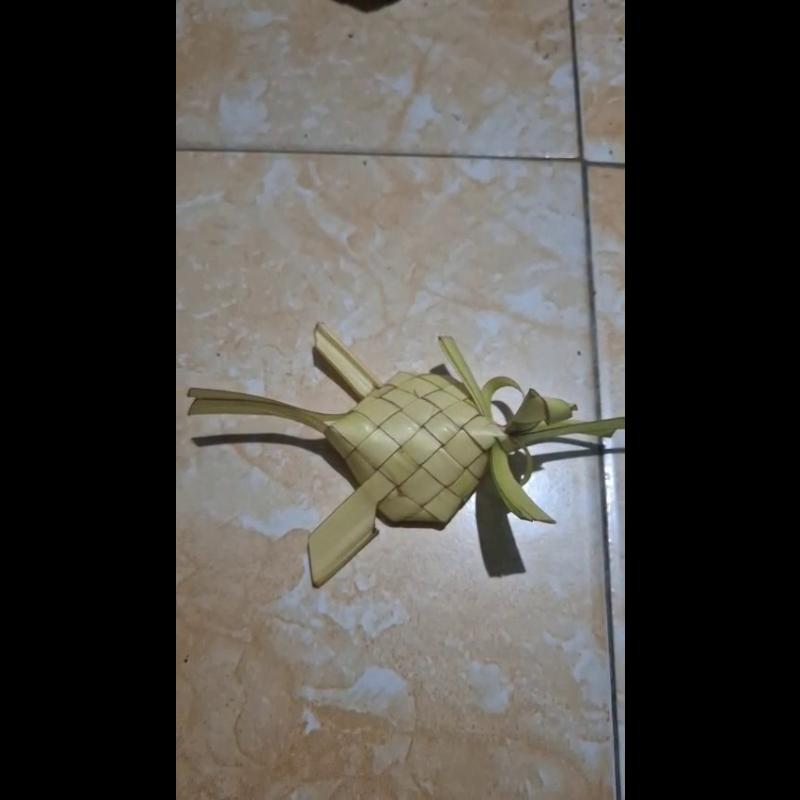Tipat Dampulan: (187, 320, 624, 595)
